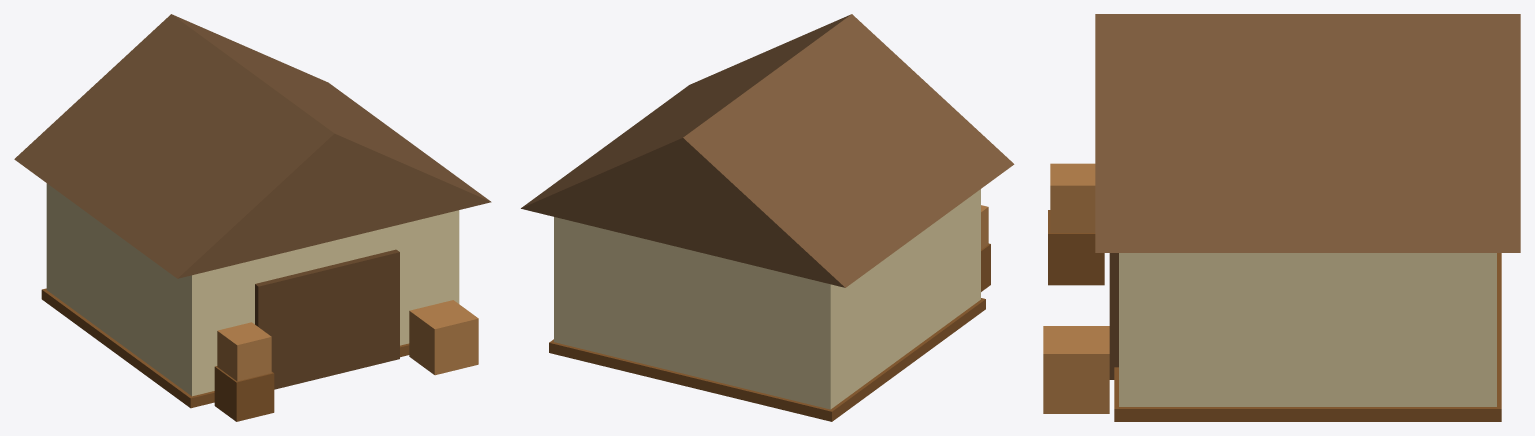
The model's file is warehouse.glb.
The picture shows the model from 3 angles, left to right: view 1: azimuth 30°, elevation 25°; view 2: azimuth 150°, elevation 25°; view 3: azimuth 270°, elevation 25°; orthographic projection. The views are drawn at different scales.
Parts seen in each view (by area): view 1: marrom_telhado, armazem, porta.010, madeira.008, madeira_escura.010; view 2: marrom_telhado, armazem, madeira_escura.010; view 3: marrom_telhado, armazem, madeira_escura.010, madeira.008, porta.010.
Part boxes in pixels (left/top/right/bottom): marrom_telhado: left=14, top=14, right=491, bottom=278; armazem: left=46, top=183, right=459, bottom=396; porta.010: left=255, top=249, right=399, bottom=389; madeira.008: left=217, top=300, right=478, bottom=381; madeira_escura.010: left=41, top=288, right=409, bottom=421; marrom_telhado: left=521, top=14, right=1014, bottom=287; armazem: left=554, top=189, right=980, bottom=409; madeira_escura.010: left=549, top=243, right=990, bottom=421; marrom_telhado: left=1095, top=14, right=1520, bottom=252; armazem: left=1119, top=253, right=1496, bottom=406; madeira_escura.010: left=1048, top=210, right=1501, bottom=421; madeira.008: left=1043, top=163, right=1109, bottom=413; porta.010: left=1109, top=253, right=1118, bottom=379.
Size of the model in its own units: 2 by 1.5 by 2.02.
